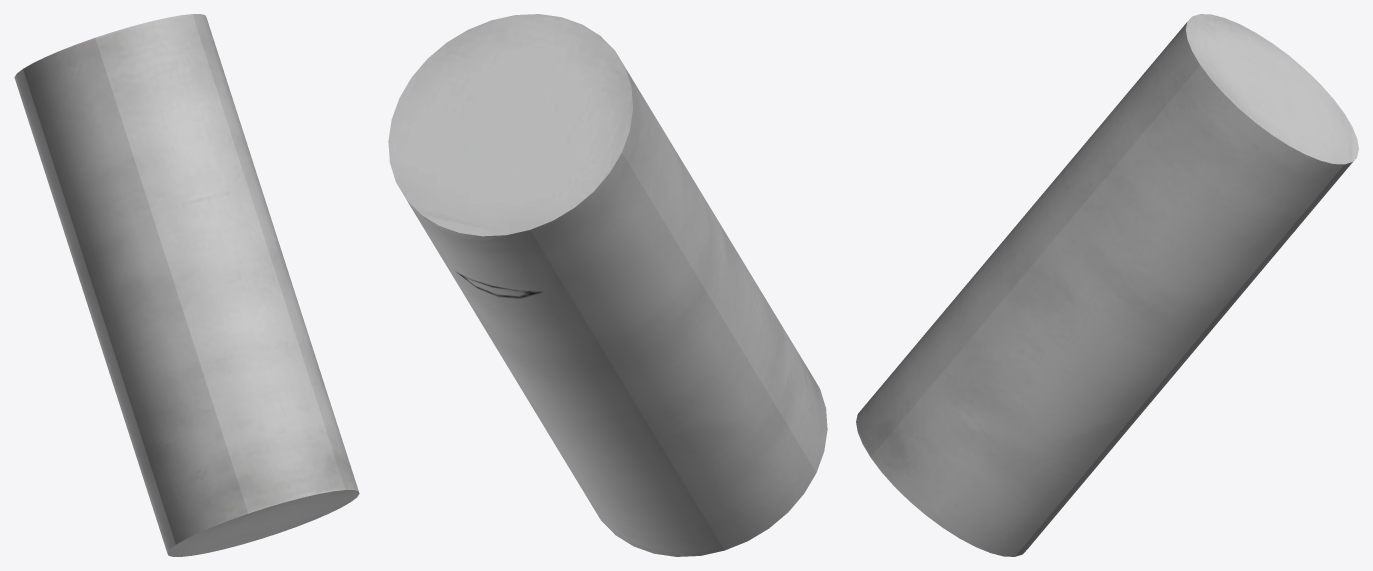
File: optical_carriage__eyepiece_tube.glb
The picture shows the model from 3 angles, left to right: view 1: azimuth 30°, elevation 25°; view 2: azimuth 150°, elevation 25°; view 3: azimuth 270°, elevation 25°; orthographic projection. The views are drawn at different scales.
Parts seen in each view (by area): view 1: geometry_0; view 2: geometry_0; view 3: geometry_0.
Part boxes in pixels (x1,y1,x2,y2): geometry_0: (14, 14, 359, 556); geometry_0: (388, 14, 827, 556); geometry_0: (856, 14, 1358, 556).
Size of the model in its own units: 0.036 by 0.0934 by 0.0832.
Materials: 1 (1 with a texture image).
